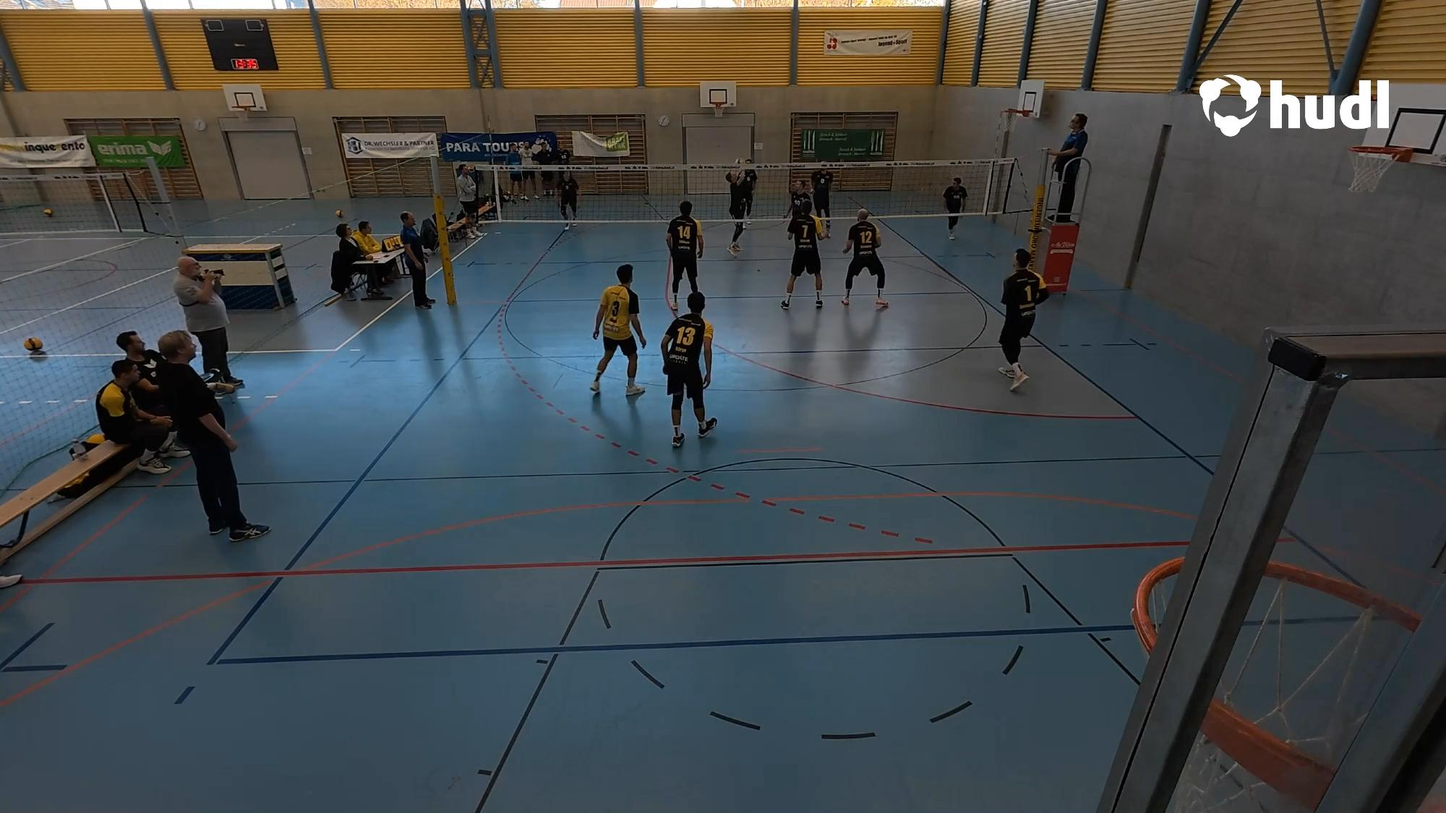Player: (660, 293, 715, 446), (590, 263, 646, 398), (994, 250, 1044, 392), (781, 200, 826, 310), (839, 210, 889, 308), (664, 202, 706, 308), (810, 160, 834, 242), (944, 172, 969, 245), (557, 173, 581, 234), (741, 157, 761, 223), (784, 174, 813, 210)
Set: (722, 158, 761, 258)
ball: (733, 154, 744, 168)
